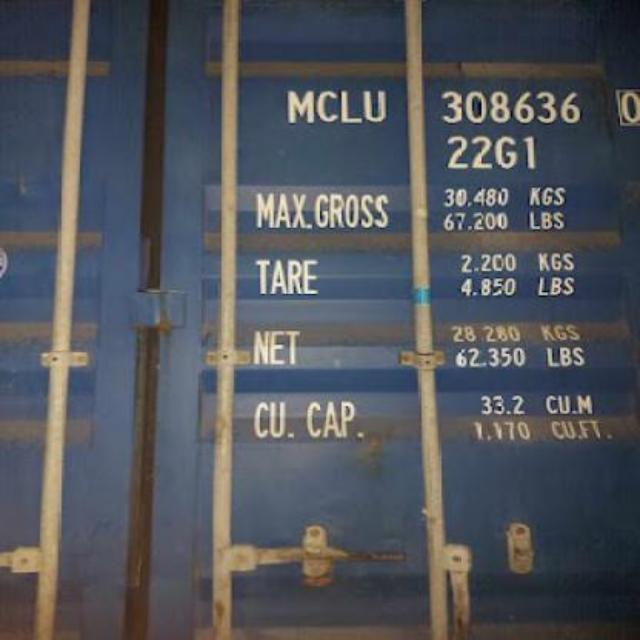0: (464, 88, 486, 122), (620, 92, 638, 125)
3: (441, 90, 462, 124), (536, 90, 558, 122)
6: (558, 90, 580, 122), (514, 90, 534, 122)
8: (488, 90, 512, 124)
C: (316, 88, 338, 122)
L: (341, 88, 362, 124)
M: (286, 88, 314, 126)
U: (362, 88, 388, 122)
